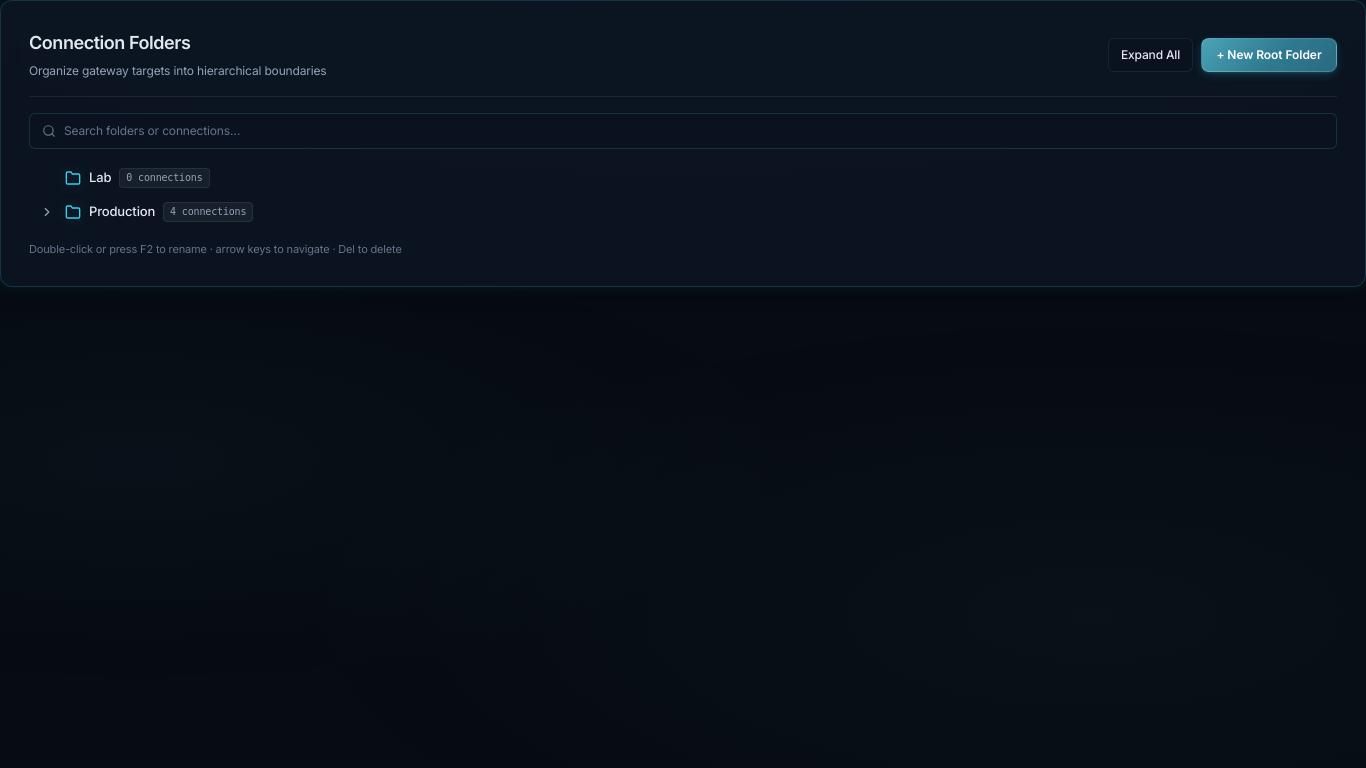
Test: ConnectionFoldersView › renames inline with F2 and keeps the folder under its parent
Click the button "Expand All": (1150, 55) [1108, 38, 1193, 72]
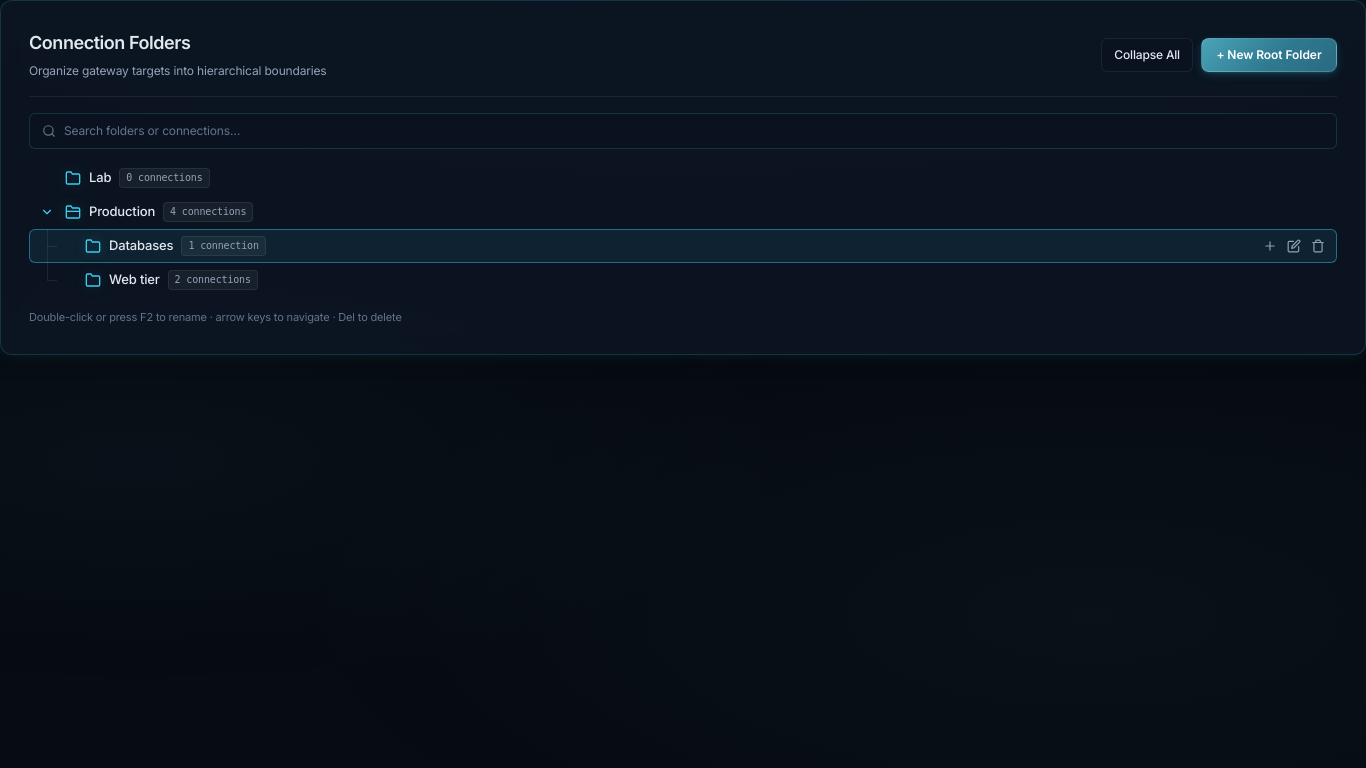
Press F2
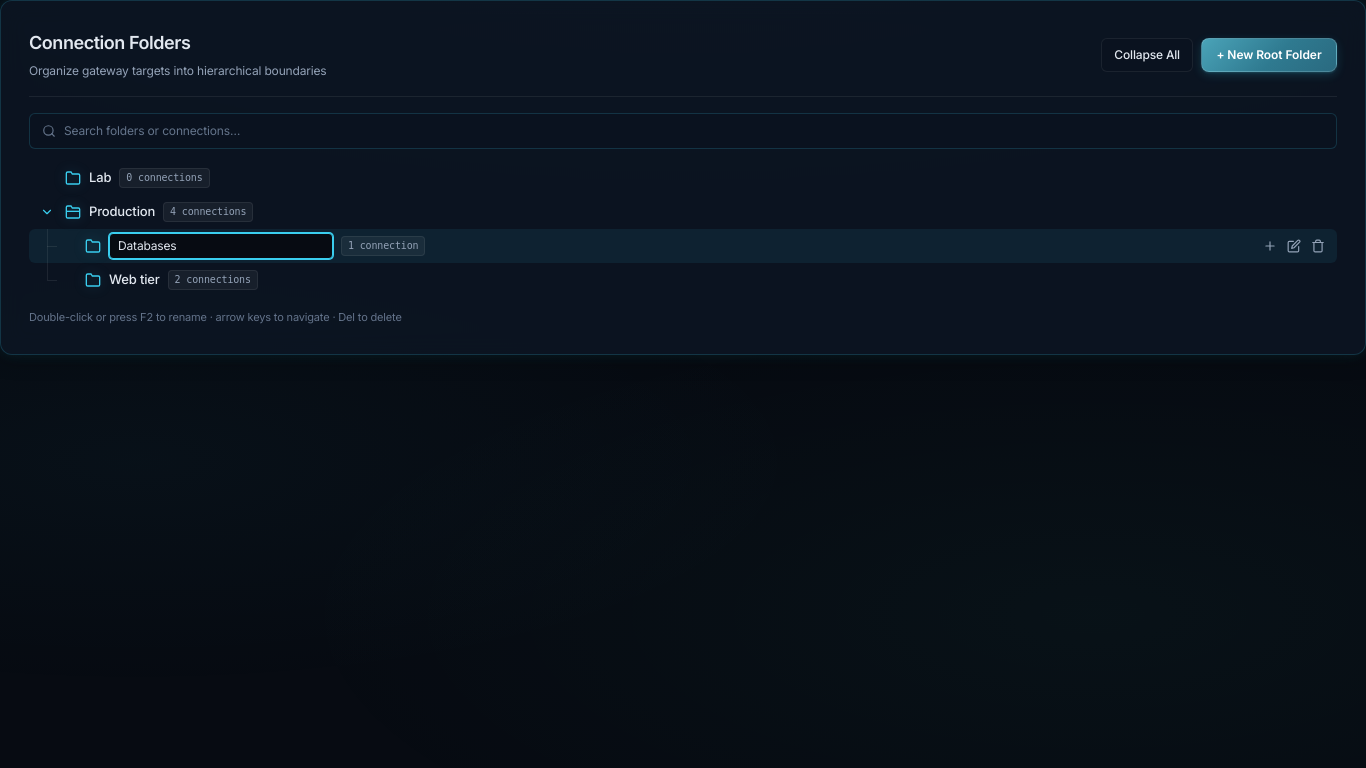
Replace the text in the field named "New name for Databases" with "Data stores": (221, 246) [109, 233, 333, 259]
Then press Enter
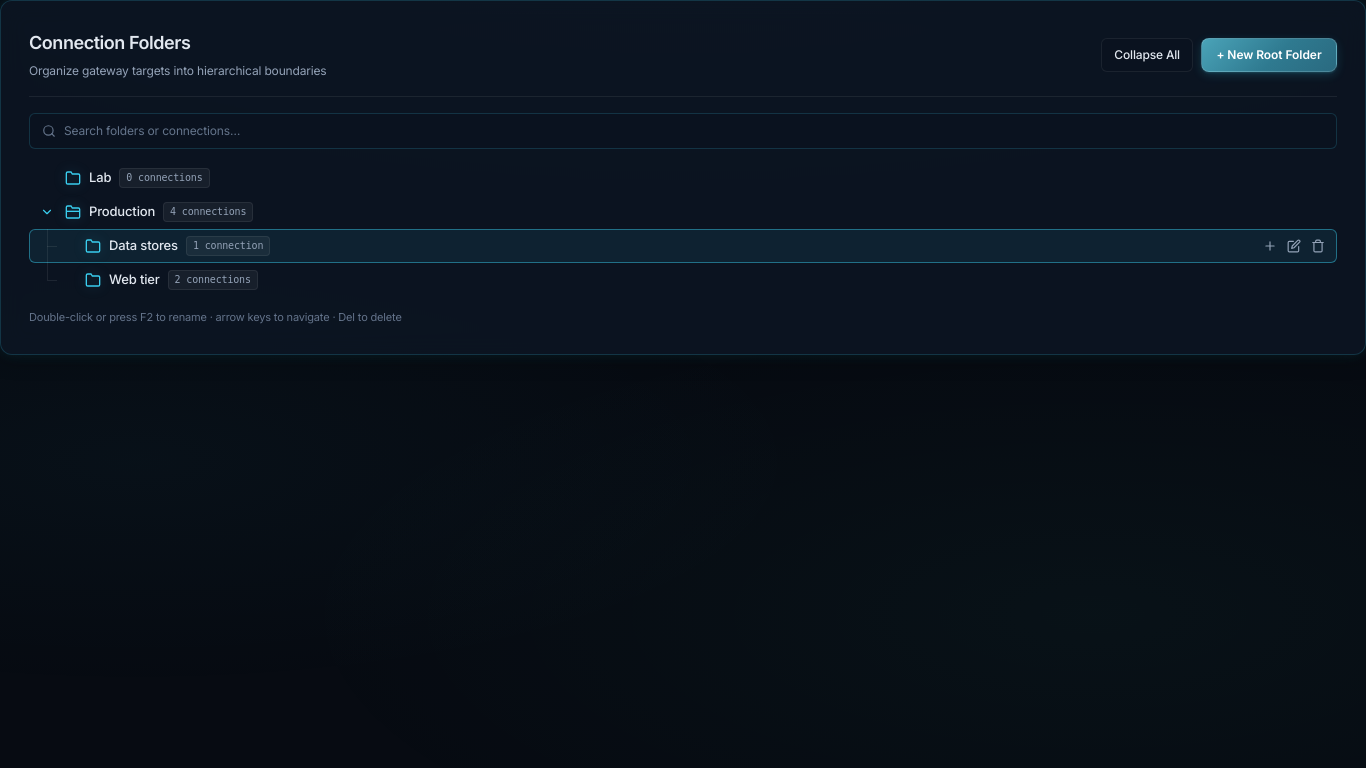
Expected: the list item "Data stores" is shown, [29, 229, 1337, 263]
